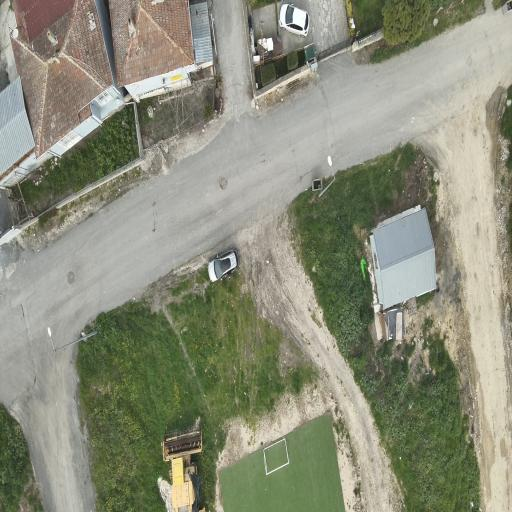car: (208, 249, 239, 282), (279, 4, 309, 37)
harvester: (163, 427, 202, 511)
